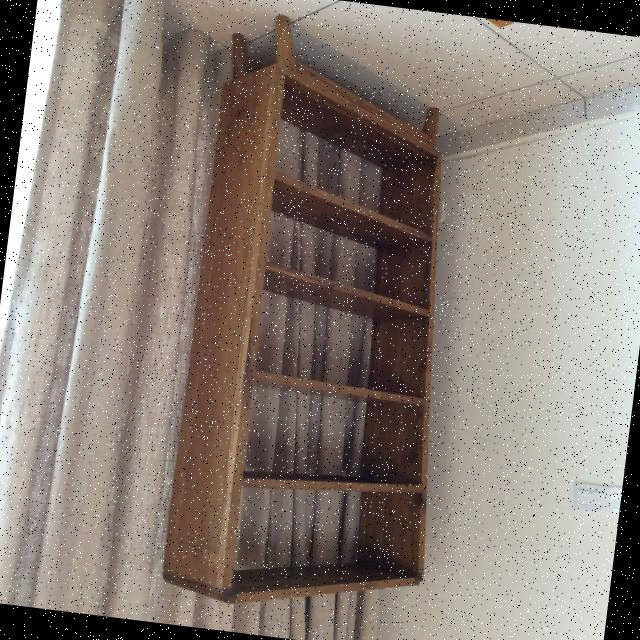Shelf: (150, 4, 492, 630)
